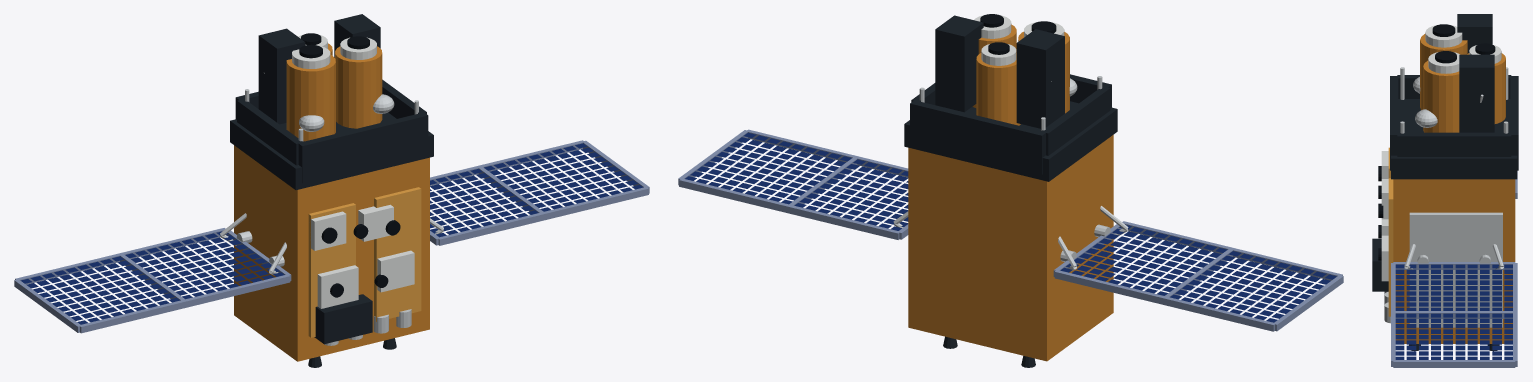
The model's file is ASTROSAT.glb.
The picture shows the model from 3 angles, left to right: view 1: azimuth 30°, elevation 25°; view 2: azimuth 150°, elevation 25°; view 3: azimuth 270°, elevation 25°; orthographic projection. The views are drawn at different scales.
Parts seen in each view (by area): view 1: ASTROSAT_MAIN_GOLD_BUS, ASTROSAT_CONSOLIDATED_SOLAR_CELLS, ASTROSAT_CONSOLIDATED_SOLAR_FRAMES, ASTROSAT_MAIN_TELESCOPE_CLUSTER, ASTROSAT_UPPER_STRUCTURAL_RAILS, ASTROSAT_FRONT_MLI_DETAILS, ASTROSAT_FRONT_EQUIPMENT_MODULES, ASTROSAT_UPPER_TELESCOPE_SHIELDS, ASTROSAT_SCIENCE_DECK, ASTROSAT_LOWER_FRONT_INSTRUMENT, ASTROSAT_FRONT_SENSOR_WINDOWS, ASTROSAT_SMALL_TOP_DOMES (+1 smaller); view 2: ASTROSAT_MAIN_GOLD_BUS, ASTROSAT_CONSOLIDATED_SOLAR_CELLS, ASTROSAT_CONSOLIDATED_SOLAR_FRAMES, ASTROSAT_UPPER_STRUCTURAL_RAILS, ASTROSAT_UPPER_TELESCOPE_SHIELDS, ASTROSAT_MAIN_TELESCOPE_CLUSTER, ASTROSAT_SCIENCE_DECK, ASTROSAT_SOLAR_SUPPORT_TRUSSES; view 3: ASTROSAT_CONSOLIDATED_SOLAR_CELLS, ASTROSAT_MAIN_GOLD_BUS, ASTROSAT_SIDE_STRUCTURAL_PANEL, ASTROSAT_MAIN_TELESCOPE_CLUSTER, ASTROSAT_UPPER_STRUCTURAL_RAILS, ASTROSAT_SCIENCE_DECK, ASTROSAT_UPPER_TELESCOPE_SHIELDS, ASTROSAT_CONSOLIDATED_SOLAR_FRAMES, ASTROSAT_FRONT_EQUIPMENT_MODULES, ASTROSAT_FRONT_MLI_DETAILS, ASTROSAT_LOWER_FRONT_INSTRUMENT, ASTROSAT_SMALL_TOP_DOMES (+5 smaller).
Part boxes in pixels (left/top/right/bottom): ASTROSAT_MAIN_GOLD_BUS: left=234, top=145, right=429, bottom=361; ASTROSAT_CONSOLIDATED_SOLAR_CELLS: left=20, top=143, right=643, bottom=324; ASTROSAT_CONSOLIDATED_SOLAR_FRAMES: left=14, top=140, right=649, bottom=333; ASTROSAT_MAIN_TELESCOPE_CLUSTER: left=286, top=33, right=382, bottom=141; ASTROSAT_UPPER_STRUCTURAL_RAILS: left=235, top=79, right=428, bottom=183; ASTROSAT_FRONT_MLI_DETAILS: left=308, top=187, right=421, bottom=337; ASTROSAT_FRONT_EQUIPMENT_MODULES: left=311, top=204, right=414, bottom=308; ASTROSAT_UPPER_TELESCOPE_SHIELDS: left=258, top=14, right=380, bottom=124; ASTROSAT_SCIENCE_DECK: left=230, top=112, right=433, bottom=189; ASTROSAT_LOWER_FRONT_INSTRUMENT: left=314, top=294, right=372, bottom=344; ASTROSAT_FRONT_SENSOR_WINDOWS: left=321, top=220, right=400, bottom=297; ASTROSAT_SMALL_TOP_DOMES: left=299, top=94, right=394, bottom=131; ASTROSAT_MAIN_GOLD_BUS: left=908, top=135, right=1113, bottom=361; ASTROSAT_CONSOLIDATED_SOLAR_CELLS: left=685, top=132, right=1336, bottom=322; ASTROSAT_CONSOLIDATED_SOLAR_FRAMES: left=678, top=129, right=1343, bottom=331; ASTROSAT_UPPER_STRUCTURAL_RAILS: left=910, top=74, right=1111, bottom=174; ASTROSAT_UPPER_TELESCOPE_SHIELDS: left=935, top=15, right=1064, bottom=128; ASTROSAT_MAIN_TELESCOPE_CLUSTER: left=972, top=14, right=1069, bottom=125; ASTROSAT_SCIENCE_DECK: left=904, top=101, right=1117, bottom=181; ASTROSAT_SOLAR_SUPPORT_TRUSSES: left=893, top=206, right=1128, bottom=271; ASTROSAT_CONSOLIDATED_SOLAR_CELLS: left=1395, top=264, right=1512, bottom=359; ASTROSAT_MAIN_GOLD_BUS: left=1393, top=179, right=1515, bottom=343; ASTROSAT_SIDE_STRUCTURAL_PANEL: left=1409, top=212, right=1502, bottom=327; ASTROSAT_MAIN_TELESCOPE_CLUSTER: left=1420, top=24, right=1505, bottom=132; ASTROSAT_UPPER_STRUCTURAL_RAILS: left=1390, top=75, right=1518, bottom=170; ASTROSAT_SCIENCE_DECK: left=1391, top=99, right=1517, bottom=179; ASTROSAT_UPPER_TELESCOPE_SHIELDS: left=1457, top=14, right=1494, bottom=132; ASTROSAT_CONSOLIDATED_SOLAR_FRAMES: left=1391, top=171, right=1517, bottom=367; ASTROSAT_FRONT_EQUIPMENT_MODULES: left=1381, top=151, right=1388, bottom=281; ASTROSAT_FRONT_MLI_DETAILS: left=1388, top=147, right=1393, bottom=316; ASTROSAT_LOWER_FRONT_INSTRUMENT: left=1372, top=238, right=1388, bottom=291; ASTROSAT_SMALL_TOP_DOMES: left=1413, top=77, right=1437, bottom=127.
Size of the model in its own units: 6.12 by 3.11 by 1.41.
